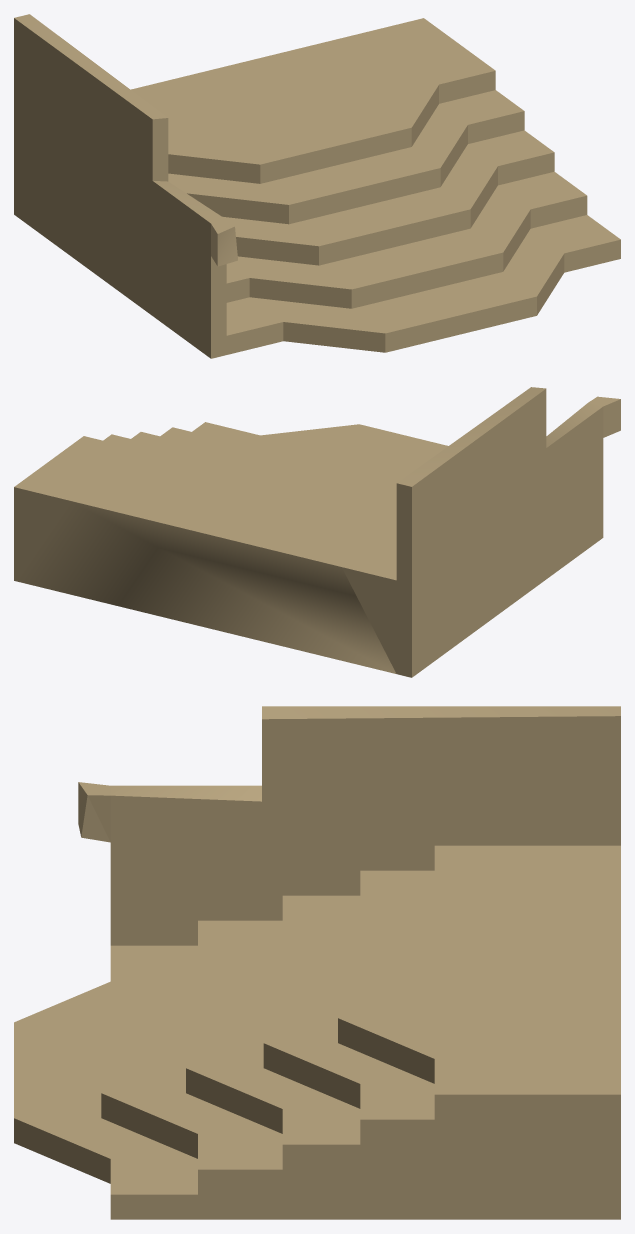
File: BG-Stairs-1.fbx
The picture shows the model from 3 angles, top to bottom: view 1: azimuth 30°, elevation 25°; view 2: azimuth 150°, elevation 25°; view 3: azimuth 270°, elevation 25°; orthographic projection. The views are drawn at different scales.
Visible parts, largest first — view 1: BG-Stairs-1; view 2: BG-Stairs-1; view 3: BG-Stairs-1.
Boxes of the visible parts, left/top/right/bottom form: BG-Stairs-1: left=14, top=14, right=620, bottom=358; BG-Stairs-1: left=14, top=387, right=620, bottom=677; BG-Stairs-1: left=14, top=706, right=620, bottom=1219.
Size of the model in its own units: 606 by 274 by 592.
